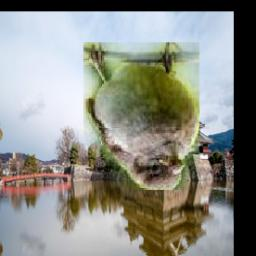Sparrow: (84, 43, 200, 191)
